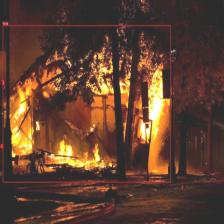fire: (3, 25, 171, 182)
